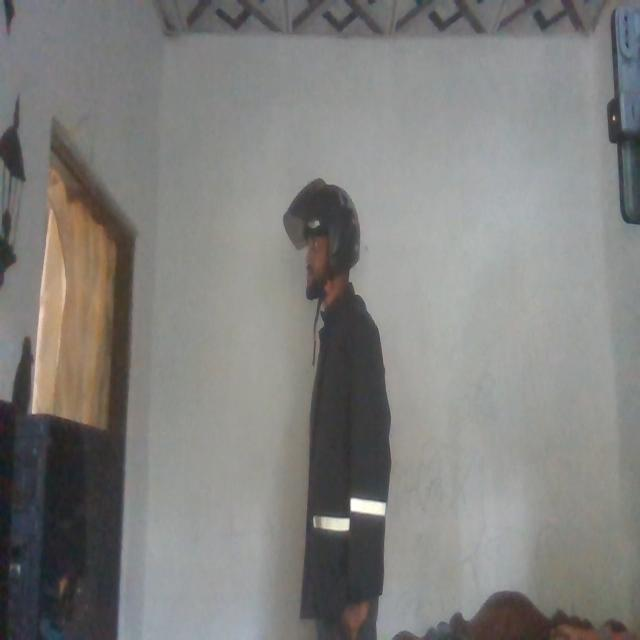Helmet_Wearer: (284, 172, 358, 318)
Jacket_Wearer: (296, 298, 388, 638)
Person: (275, 164, 396, 634)
